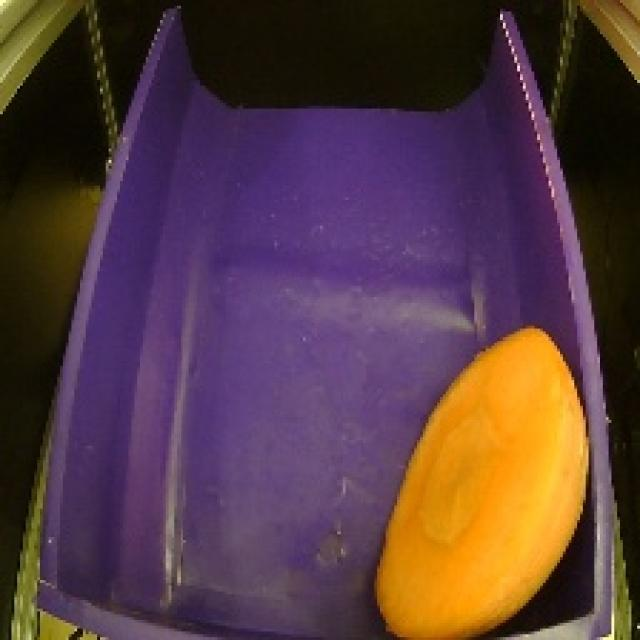carrots: (364, 318, 600, 640)
